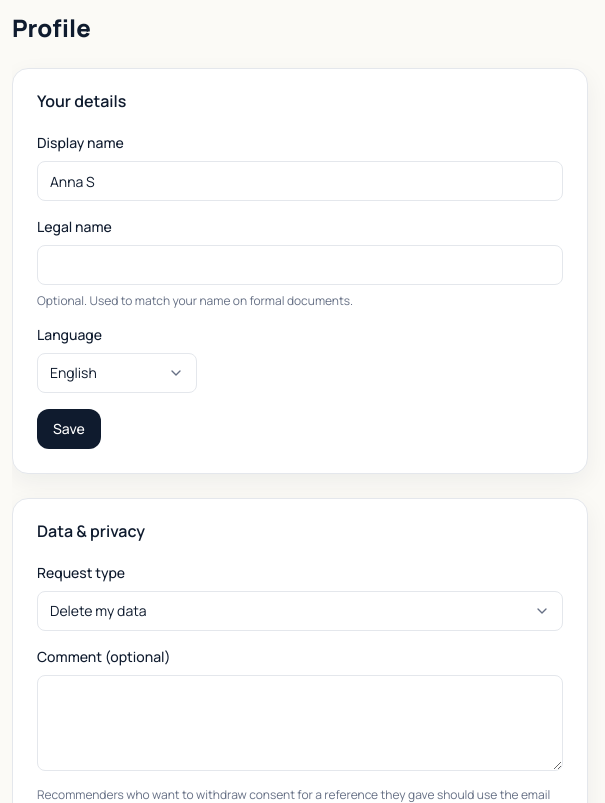
ProfilePage › requires a display name
Clear the field labelled "Display name" at (300, 181), box [37, 161, 563, 201]
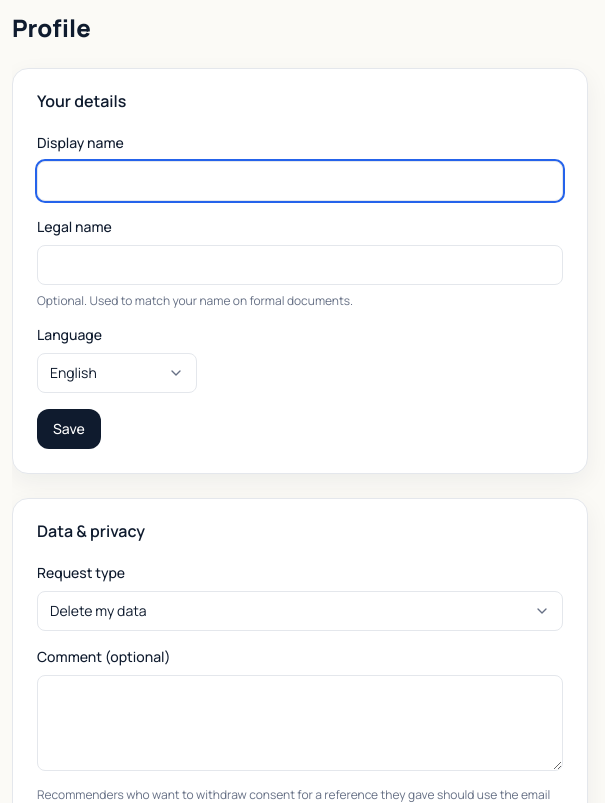
Click the button "Save" at (69, 429), box [37, 409, 101, 449]
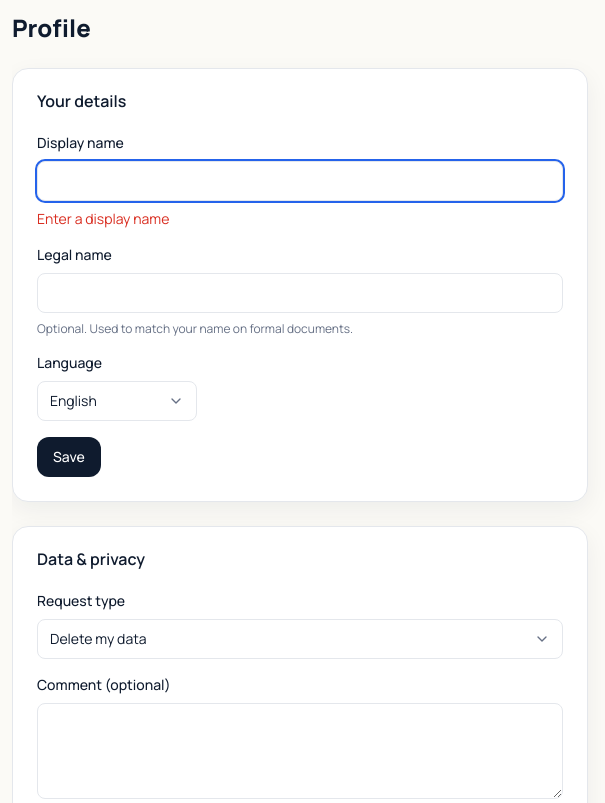
Expected: the text "Enter a display name" is shown, [37, 209, 169, 228]
